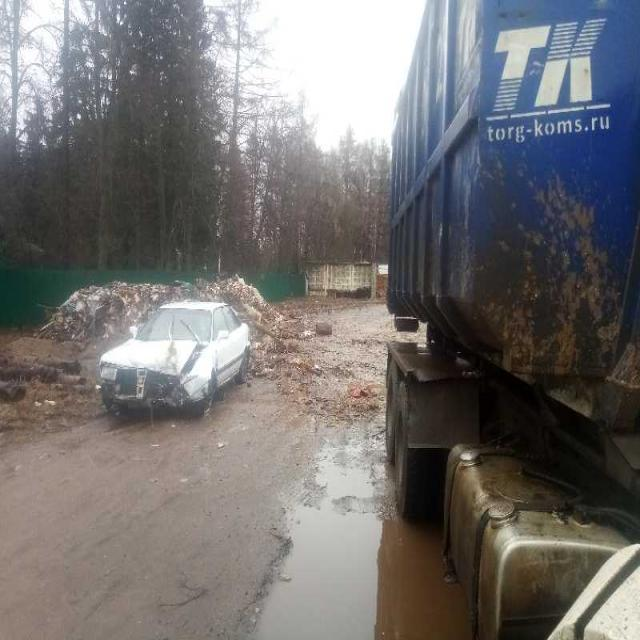Dumpster: (388, 0, 640, 386)
